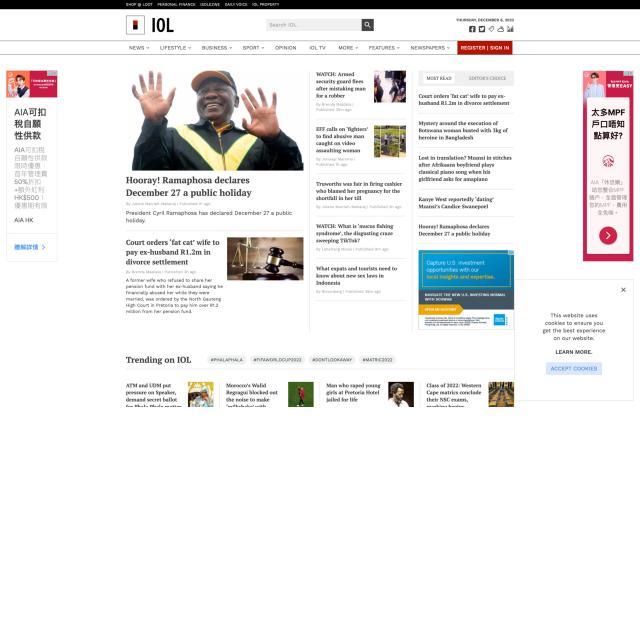input: (266, 18, 374, 31)
logo: (124, 14, 181, 37)
navigation: (124, 41, 457, 54), (125, 0, 282, 10)
